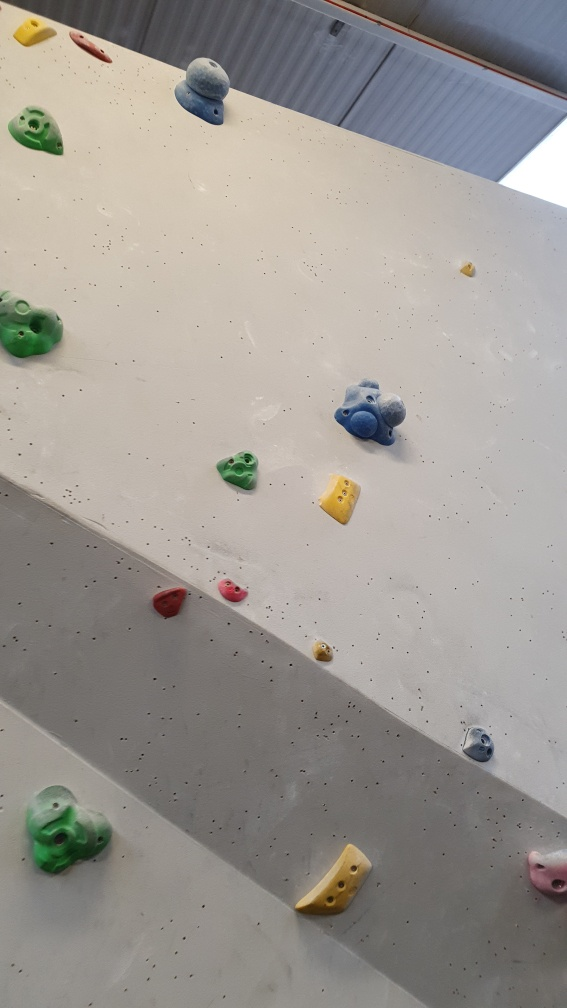Crimp: (286, 838, 374, 919), (318, 470, 366, 528), (66, 27, 117, 69)
Jug: (24, 783, 118, 879), (1, 287, 68, 358), (12, 102, 68, 155), (212, 440, 263, 494)
Pinch: (12, 16, 63, 48)
Sloper: (332, 373, 407, 448), (170, 51, 235, 128)
